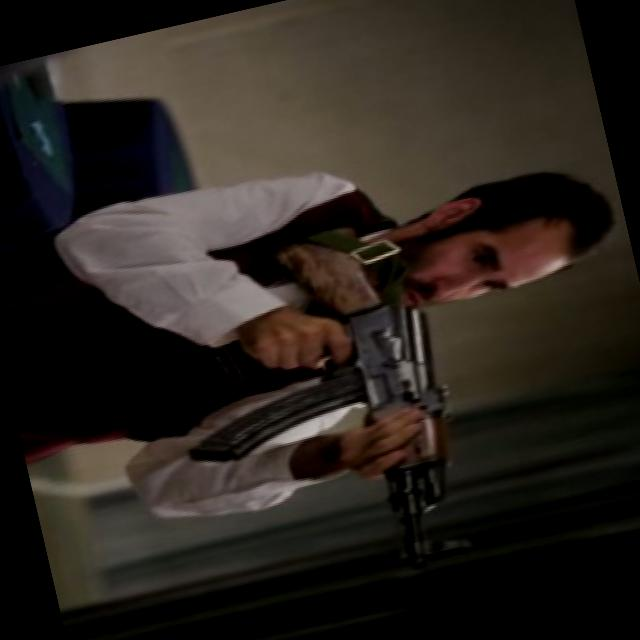long weapon: (151, 218, 490, 636)
